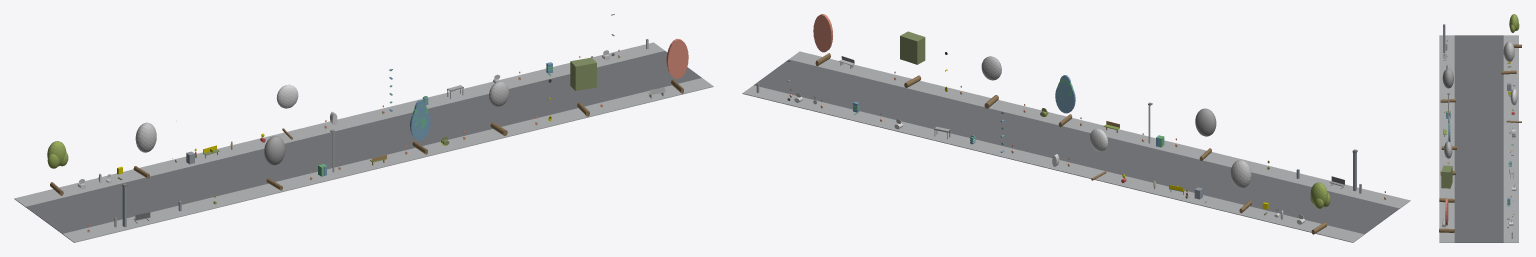
3 views of the same model, side by side, from view 1: azimuth 30°, elevation 25°; view 2: azimuth 150°, elevation 25°; view 3: azimuth 270°, elevation 25° (orthographic). The views are drawn at different scales.
Visible parts, largest first — view 1: road_slab, sidewalk_left, sidewalk_right, inst_0024, inst_0025, inst_0022, inst_0019, inst_0020, inst_0018, inst_0023, inst_0021; view 2: road_slab, sidewalk_right, sidewalk_left, inst_0024, inst_0025, inst_0022, inst_0019, inst_0020, inst_0018, inst_0023, inst_0021; view 3: road_slab, sidewalk_right, sidewalk_left, inst_0024, inst_0019, inst_0020, inst_0018, inst_0025, inst_0023, inst_0021, inst_0022, inst_0006.
Boxes of the visible parts, x1,y1,x2,y2 form: road_slab: (26,51,701,233); sidewalk_left: (62,78,713,242); sidewalk_right: (14,42,664,207); inst_0024: (570,57,596,116); inst_0025: (666,38,688,93); inst_0022: (410,100,430,154); inst_0019: (133,122,156,178); inst_0020: (264,136,285,190); inst_0018: (47,141,68,195); inst_0023: (489,81,509,135); inst_0021: (276,84,298,139); road_slab: (754,59,1399,234); sidewalk_right: (742,85,1364,242); sidewalk_left: (789,51,1410,208); inst_0024: (900,31,925,87); inst_0025: (813,14,833,66); inst_0022: (1055,75,1075,127); inst_0019: (1230,160,1251,213); inst_0020: (1195,108,1216,160); inst_0018: (1310,182,1330,234); inst_0023: (981,56,1001,108); inst_0021: (1089,128,1107,180); road_slab: (1454,35,1503,242); sidewalk_right: (1503,35,1518,242); sidewalk_left: (1439,35,1454,242); inst_0024: (1439,165,1454,202); inst_0019: (1501,42,1516,74); inst_0020: (1440,68,1455,102); inst_0018: (1509,14,1521,47); inst_0025: (1439,199,1454,232); inst_0023: (1440,141,1455,175); inst_0021: (1506,88,1521,122); inst_0022: (1441,116,1456,149); inst_0006: (1443,24,1445,52).
Bounding box in the file's own units: 80 × 6.08 × 13.51.
